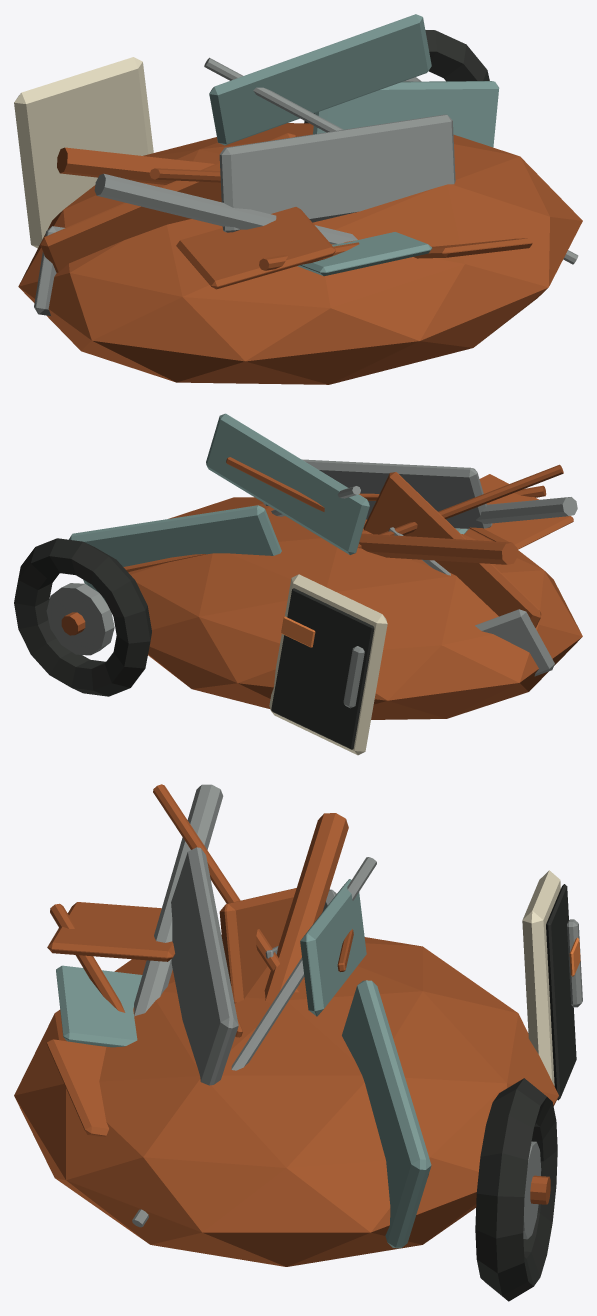
Rendered from scrap_heap.glb.
3 views of the same model, one above another, from view 1: azimuth 30°, elevation 25°; view 2: azimuth 150°, elevation 25°; view 3: azimuth 270°, elevation 25° (orthographic). The views are drawn at different scales.
Visible parts, largest first — view 1: scrap_heap; view 2: scrap_heap; view 3: scrap_heap.
Part boxes in pixels (<box>): scrap_heap: <box>14,14,582,384</box>; scrap_heap: <box>14,413,582,755</box>; scrap_heap: <box>14,784,582,1301</box>.
Bounding box in the file's own units: 3.37 × 1.69 × 2.67.
